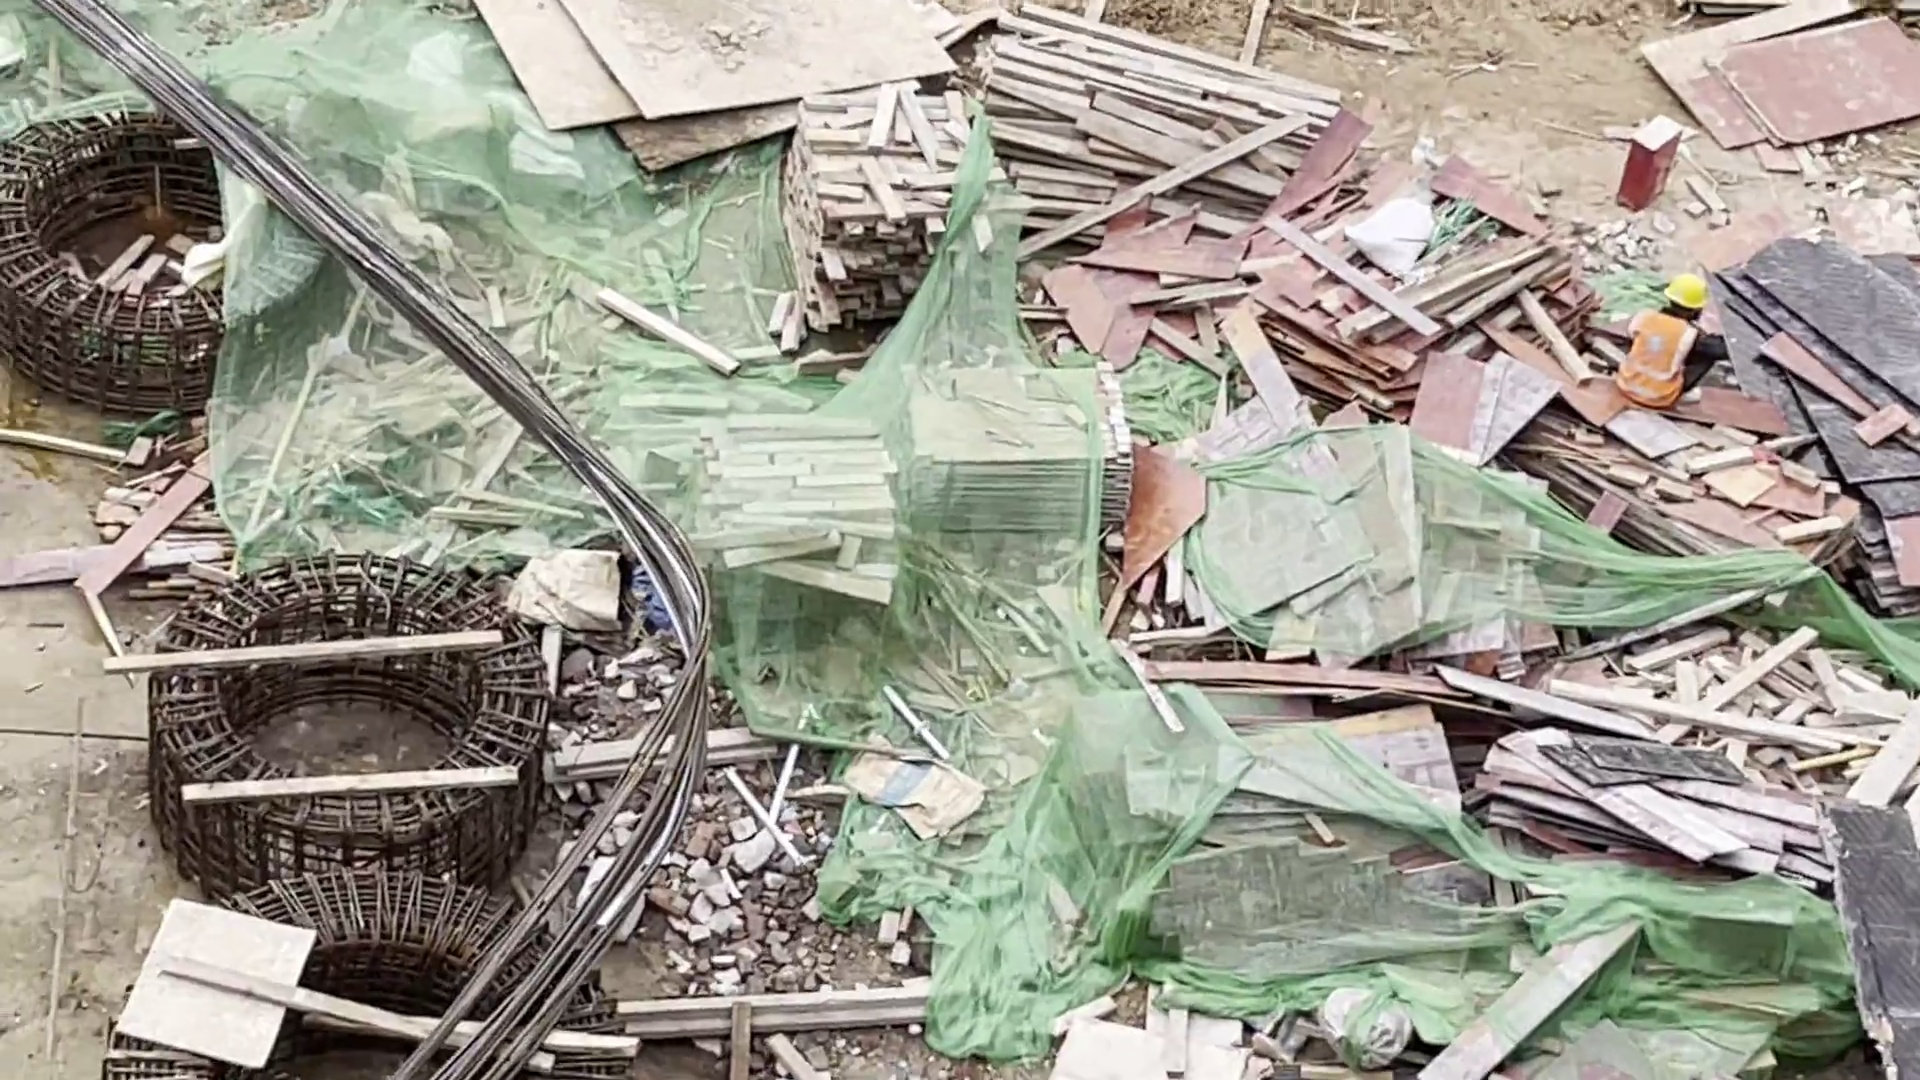helmet: (1665, 271, 1706, 313)
person: (1623, 267, 1717, 409)
vest: (1624, 308, 1697, 407)
